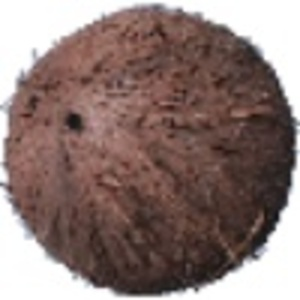coco: (1, 5, 300, 296)
